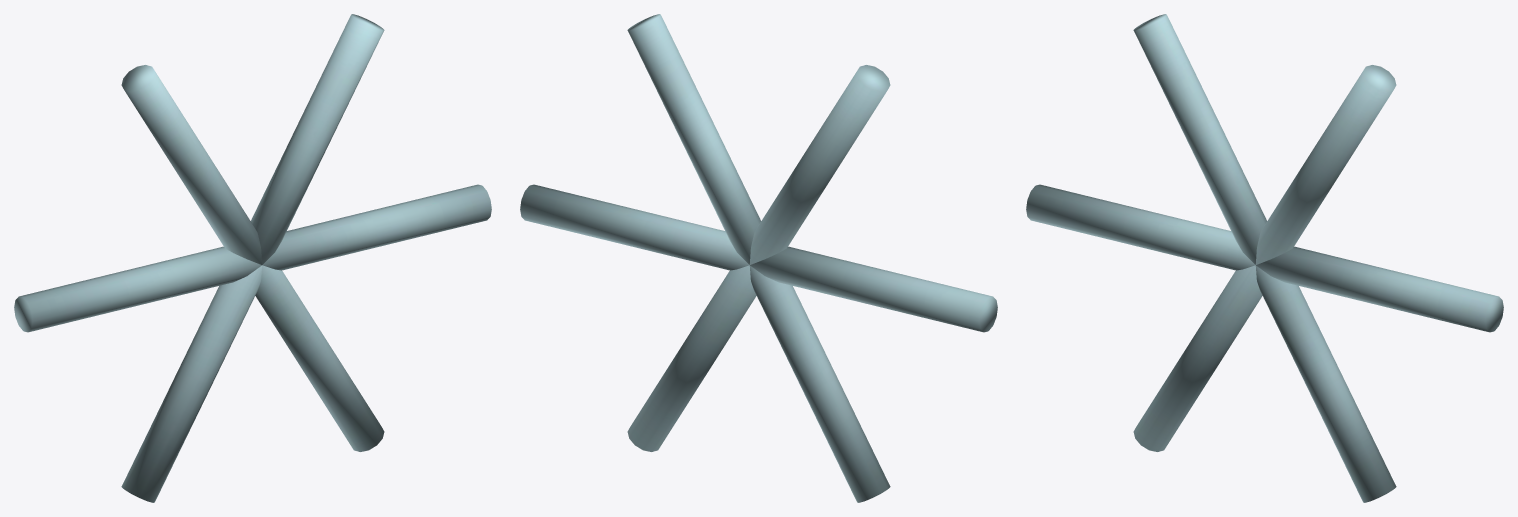
Rendered from snowflake_pickup.glb.
3 renders of one model, left to right at view 1: azimuth 30°, elevation 25°; view 2: azimuth 150°, elevation 25°; view 3: azimuth 330°, elevation 25°, orthographic.
Visible parts, largest first — view 1: snowflake; view 2: snowflake; view 3: snowflake.
Part boxes in pixels (x1,y1,x2,y2): snowflake: (14,14,491,502); snowflake: (520,14,997,502); snowflake: (1026,14,1503,502).
Bounding box in the file's own units: 1 × 0.901 × 0.0699.
1 material, 1 textured.
